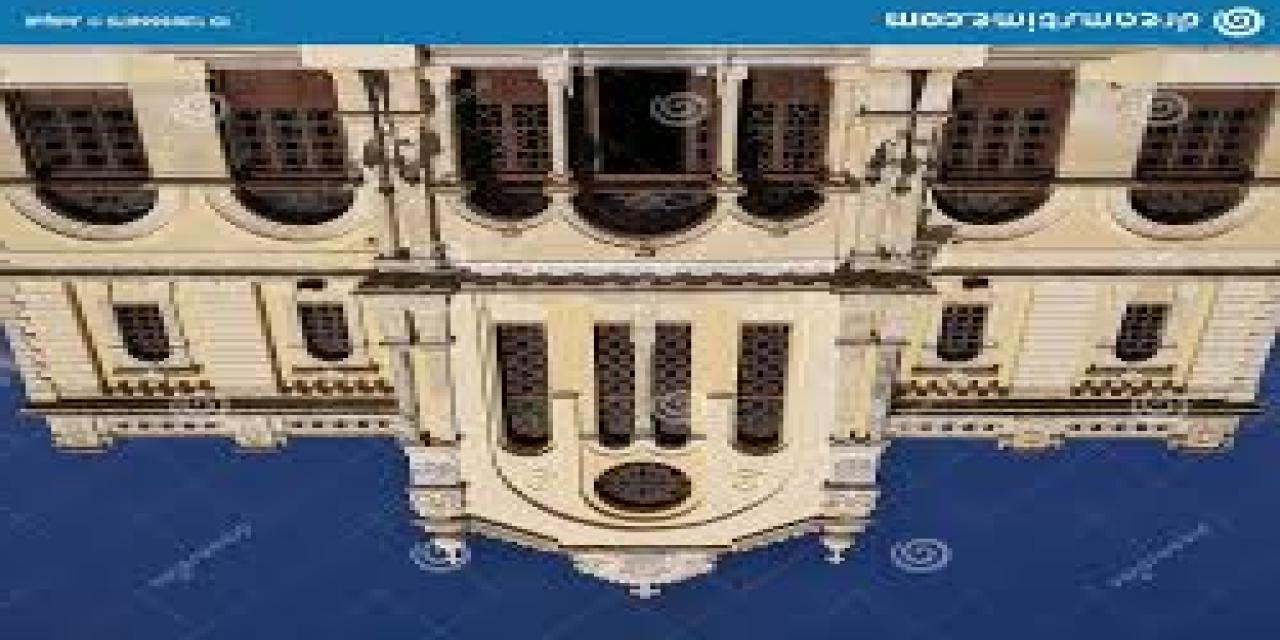Agios Minas: (1, 44, 1280, 604)
